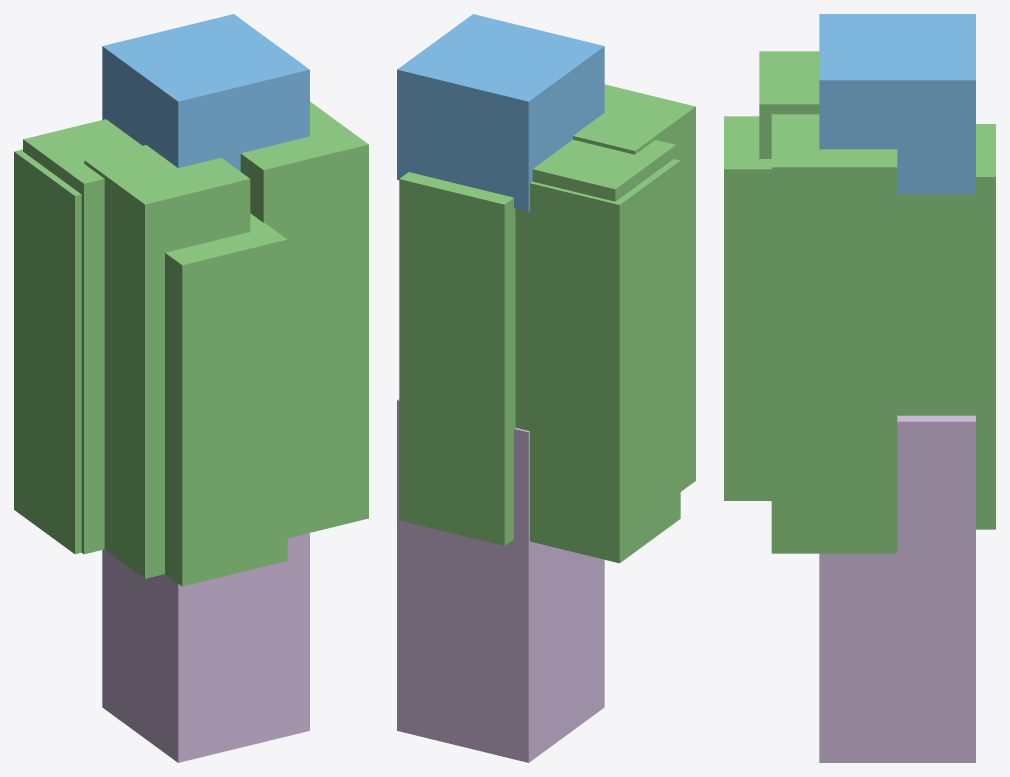
The model's file is Item_Herb_AMF_Dewclaw_Bundle5.glb.
3 renders of one model, left to right at view 1: azimuth 30°, elevation 25°; view 2: azimuth 150°, elevation 25°; view 3: azimuth 270°, elevation 25°, orthographic. The views are drawn at different scales.
Parts seen in each view (by area): view 1: Item_Herb_AMF_Dewclaw_Bundle5; view 2: Item_Herb_AMF_Dewclaw_Bundle5; view 3: Item_Herb_AMF_Dewclaw_Bundle5.
Part boxes in pixels (x1,y1,x2,y2): Item_Herb_AMF_Dewclaw_Bundle5: [14, 14, 368, 762]; Item_Herb_AMF_Dewclaw_Bundle5: [397, 14, 695, 762]; Item_Herb_AMF_Dewclaw_Bundle5: [724, 14, 995, 762].
Bounding box in the file's own units: 0.0977 × 0.24 × 0.0867.
